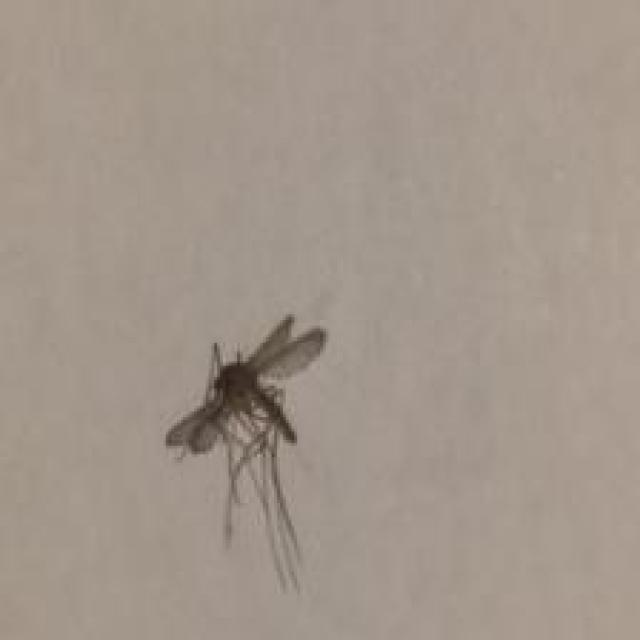Culex: (164, 312, 327, 594)
